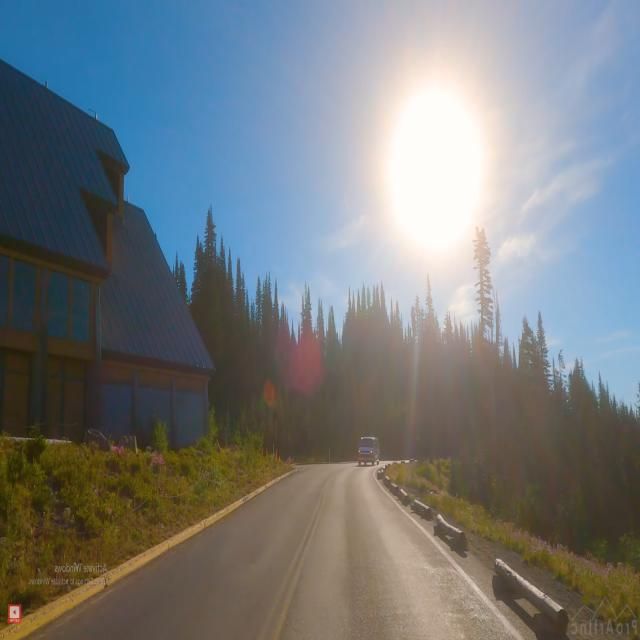sun: (366, 56, 498, 276)
